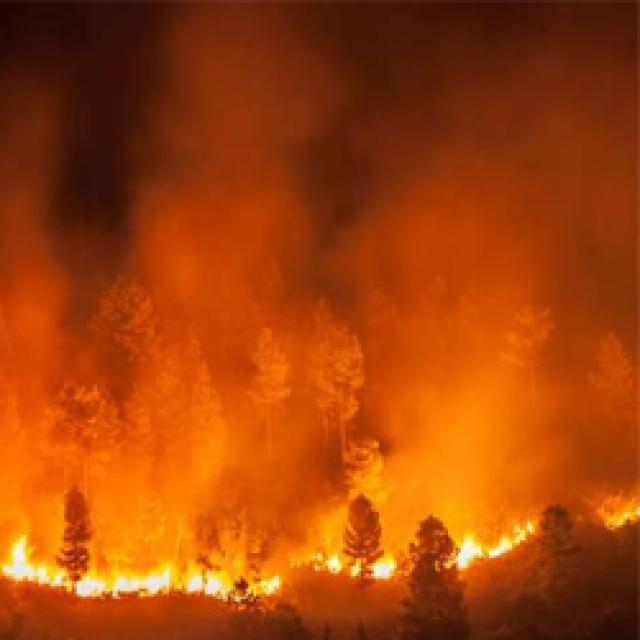Fire: (11, 530, 554, 598), (543, 490, 640, 544)
Smoke: (4, 27, 625, 466)
